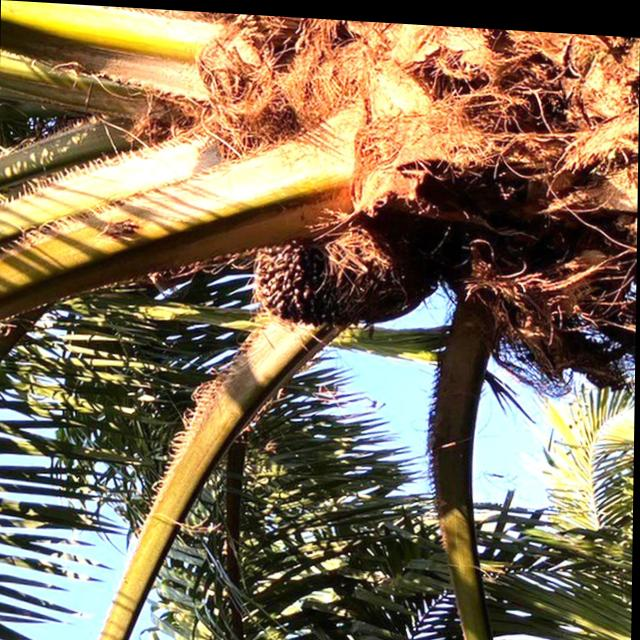almost: (244, 230, 411, 332)
